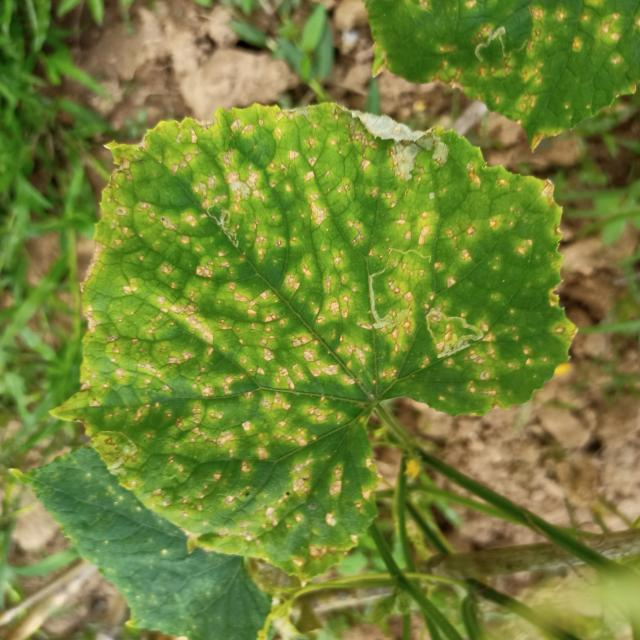disease_cucumber: (78, 109, 563, 565)
